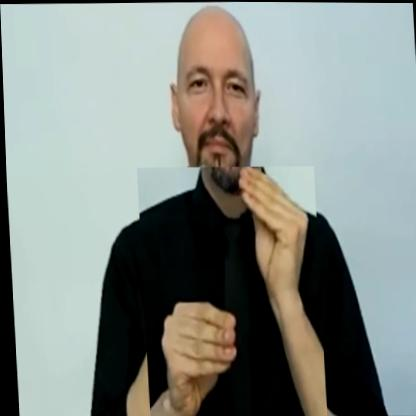Fix: (135, 164, 323, 416)
